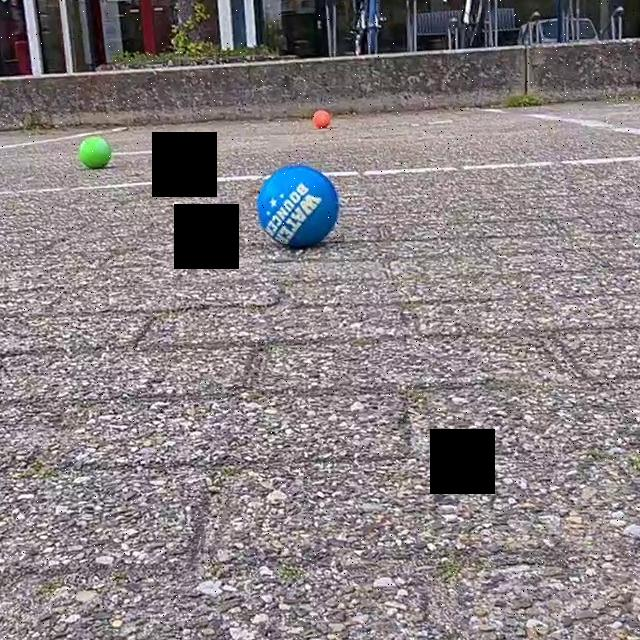ball: (76, 134, 112, 172), (310, 105, 333, 136)
